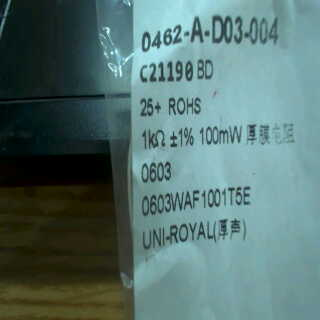1kR: (130, 125, 167, 154)
